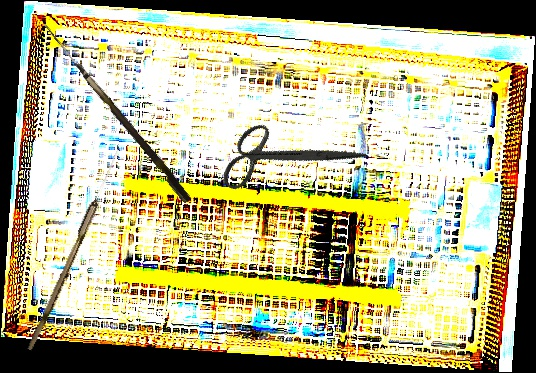Hook Surgical: (35, 23, 195, 204)
Iris Scissors: (207, 81, 368, 233)
Surgical Spoon: (27, 147, 122, 353)
